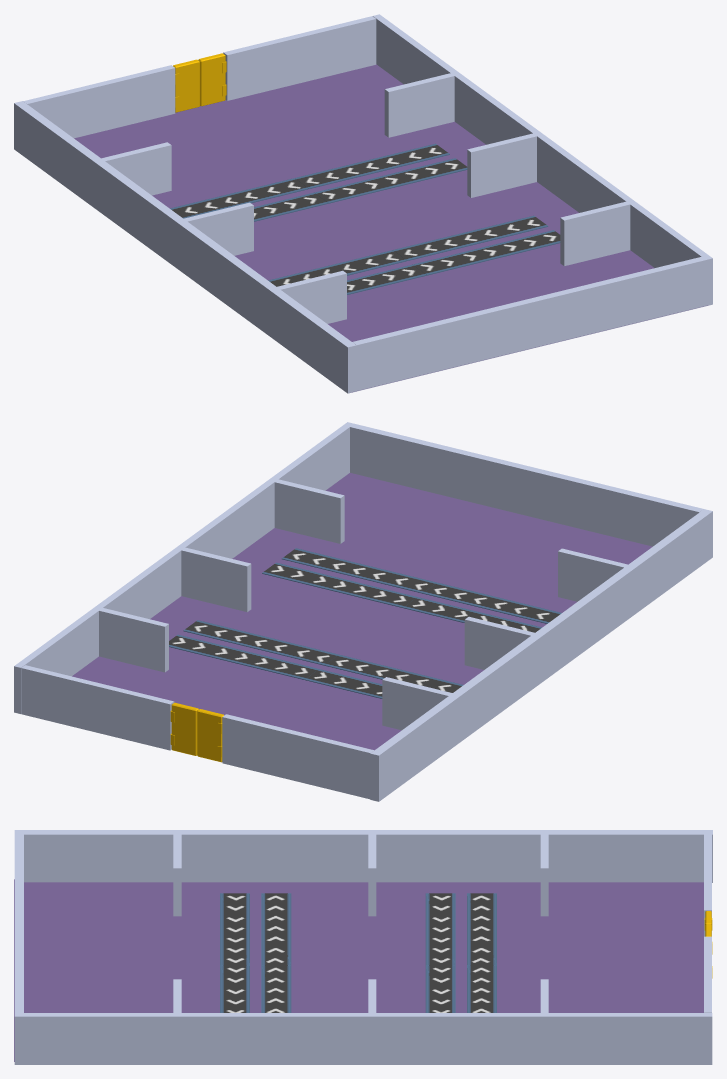
Rendered from maps55.fbx.
3 renders of one model, top to bottom at view 1: azimuth 30°, elevation 25°; view 2: azimuth 150°, elevation 25°; view 3: azimuth 270°, elevation 25°, orthographic. The views are drawn at different scales.
Visible parts, largest first — view 1: wall_01_08_geo, wall_01_07_geo, wall_01_05_geo, wall_01_06_geo1, wall_01_09_geo19, wall_01_09_geo, wall_01_09_geo21, wall_01_09_geo22, wall_01_09_geo20, wall_01_09_geo17, wall_01_09_geo15, wall_01_09_geo16 (+10 smaller); view 2: wall_01_08_geo, wall_01_07_geo, wall_01_05_geo, wall_01_06_geo1, wall_01_09_geo19, wall_01_09_geo, wall_01_09_geo22, wall_01_09_geo20, wall_01_09_geo21, wall_01_09_geo15, wall_01_09_geo17, wall_01_09_geo16 (+10 smaller); view 3: wall_01_08_geo, wall_01_06_geo1, wall_01_07_geo, conveyorBelt_geo9, conveyorBelt_geo13, conveyorBelt_geo, conveyorBelt_geo11, wall_01_05_geo, conveyorBelt_geo8, conveyorBelt_geo12, conveyorBelt_geo7, conveyorBelt_geo10 (+5 smaller).
Part boxes in pixels (<box>): wall_01_08_geo: <box>74,64,708,392</box>; wall_01_07_geo: <box>14,101,356,393</box>; wall_01_05_geo: <box>352,257,705,391</box>; wall_01_06_geo1: <box>373,14,712,306</box>; wall_01_09_geo19: <box>223,16,376,100</box>; wall_01_09_geo: <box>23,65,175,138</box>; wall_01_09_geo21: <box>384,73,454,137</box>; wall_01_09_geo22: <box>560,201,630,266</box>; wall_01_09_geo20: <box>467,133,536,197</box>; wall_01_09_geo17: <box>101,142,171,195</box>; wall_01_09_geo15: <box>184,202,253,255</box>; wall_01_09_geo16: <box>277,270,346,323</box>; wall_01_08_geo: <box>72,473,652,750</box>; wall_01_07_geo: <box>370,509,712,801</box>; wall_01_05_geo: <box>350,423,703,546</box>; wall_01_06_geo1: <box>14,422,353,713</box>; wall_01_09_geo19: <box>21,665,174,750</box>; wall_01_09_geo: <box>222,714,373,799</box>; wall_01_09_geo22: <box>274,479,344,543</box>; wall_01_09_geo20: <box>181,547,251,612</box>; wall_01_09_geo21: <box>99,608,168,672</box>; wall_01_09_geo15: <box>464,616,534,669</box>; wall_01_09_geo17: <box>382,677,452,730</box>; wall_01_09_geo16: <box>558,548,627,601</box>; wall_01_08_geo: <box>14,879,703,1061</box>; wall_01_06_geo1: <box>14,1013,712,1064</box>; wall_01_07_geo: <box>14,830,712,882</box>; conveyorBelt_geo9: <box>261,893,291,965</box>; conveyorBelt_geo13: <box>425,893,455,965</box>; conveyorBelt_geo: <box>220,893,249,965</box>; conveyorBelt_geo11: <box>467,893,496,965</box>; wall_01_05_geo: <box>14,834,23,1012</box>; conveyorBelt_geo8: <box>261,965,291,1012</box>; conveyorBelt_geo12: <box>425,965,455,1012</box>; conveyorBelt_geo7: <box>220,965,249,1012</box>; conveyorBelt_geo10: <box>467,965,496,1012</box>.
Bounding box in the file's own units: 73.34 × 8.89 × 116.
Materials: 3 (3 with a texture image).
